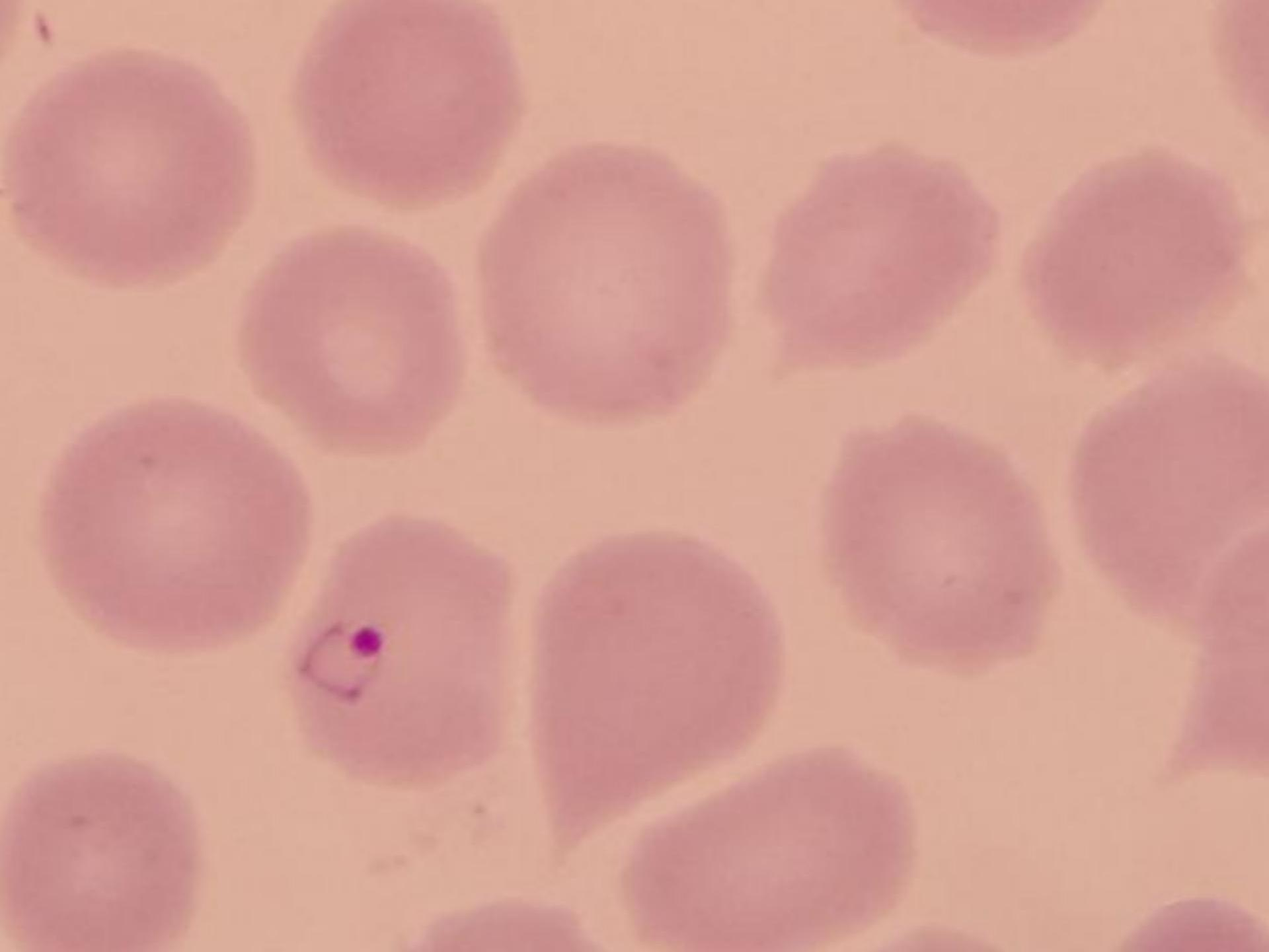Infected: (289, 512, 516, 785)
Uninfected: (527, 534, 789, 855), (478, 149, 733, 421), (41, 402, 311, 653), (820, 418, 1060, 670), (626, 747, 919, 947), (12, 53, 254, 287), (1074, 355, 1269, 637), (757, 145, 1000, 369), (240, 223, 466, 450), (292, 0, 517, 206), (1023, 146, 1239, 346), (0, 752, 197, 952)
